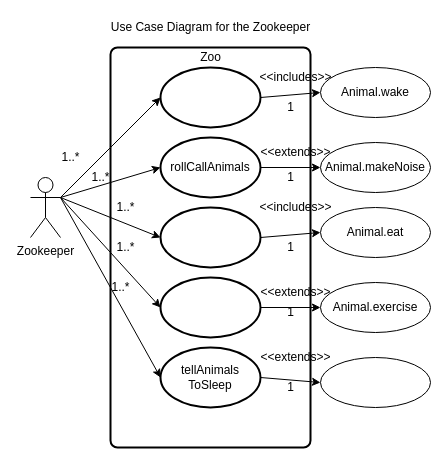
Some shapes in this 448 by 465 pixel diagram are drawn without their labels. The box of each missing label's shape, as (x1, y1, x2, y2) in pixels:
Animal.sleep: (320, 356, 430, 408)
exerciseAnimals: (159, 276, 261, 338)
feedAnimals: (159, 206, 261, 268)
wakeAnimals: (159, 66, 261, 128)
